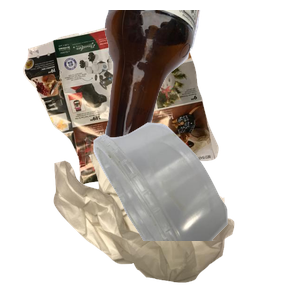glass: (99, 10, 300, 170)
paper: (20, 10, 231, 190)
plastic: (91, 120, 300, 300)
trash: (51, 142, 278, 300)
